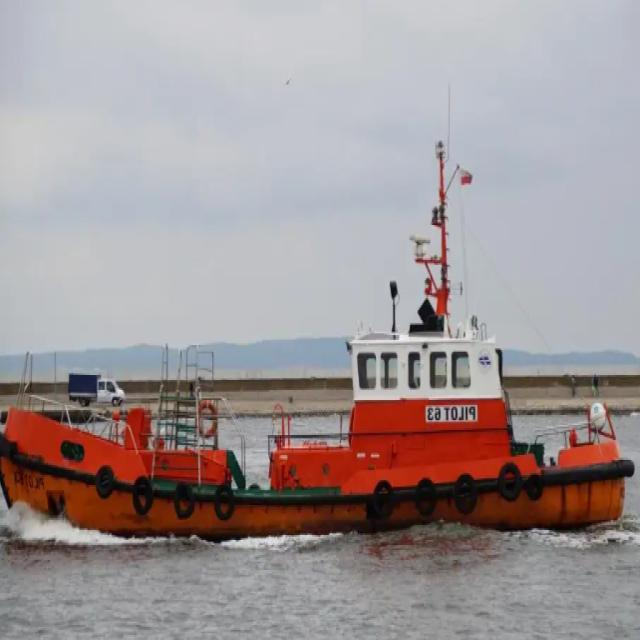fishing boat: (1, 182, 636, 535)
